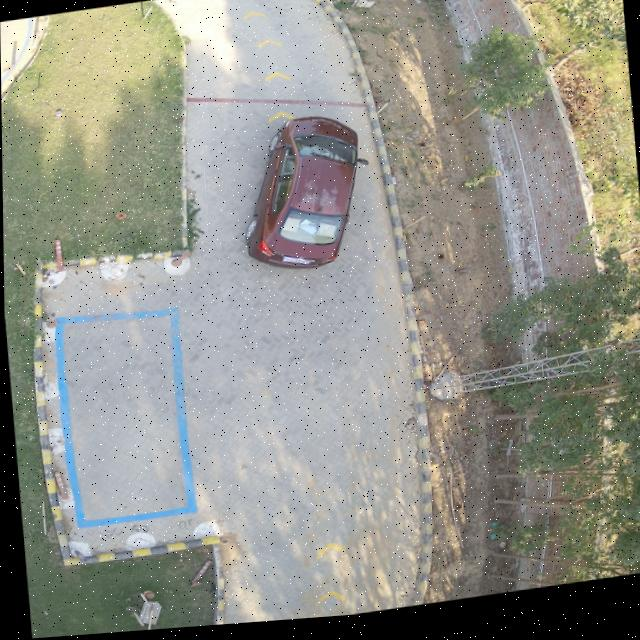car: (243, 121, 365, 273)
